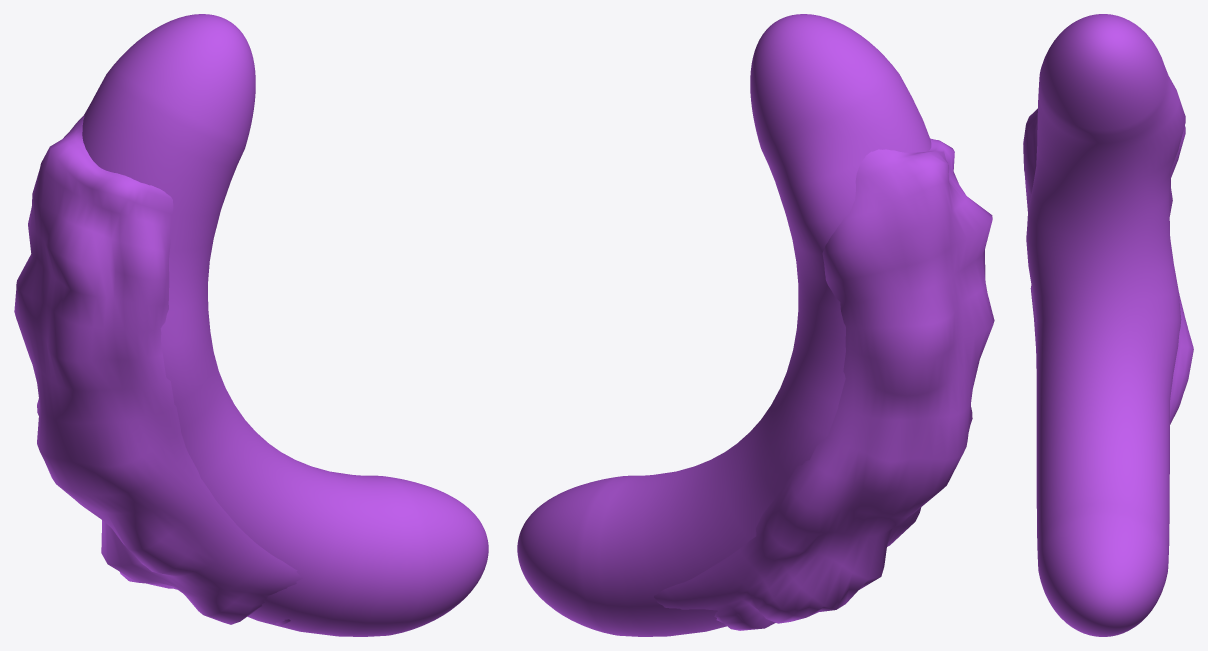
File: Ring Test 7_off center.fbx
3 views of the same model, side by side, from view 1: azimuth 30°, elevation 25°; view 2: azimuth 150°, elevation 25°; view 3: azimuth 270°, elevation 25° (orthographic). The views are drawn at different scales.
Parts seen in each view (by area): view 1: 1 Ring, 1 Ring midstep; view 2: 1 Ring, 1 Ring midstep; view 3: 1 Ring, 1 Ring midstep.
Part boxes in pixels (x1,y1,x2,y2): 1 Ring: [82, 14, 488, 636]; 1 Ring midstep: [14, 115, 302, 625]; 1 Ring: [517, 14, 931, 636]; 1 Ring midstep: [654, 138, 994, 630]; 1 Ring: [1026, 14, 1185, 636]; 1 Ring midstep: [1023, 108, 1193, 424].
Size of the model in its own units: 630 by 878 by 256.
